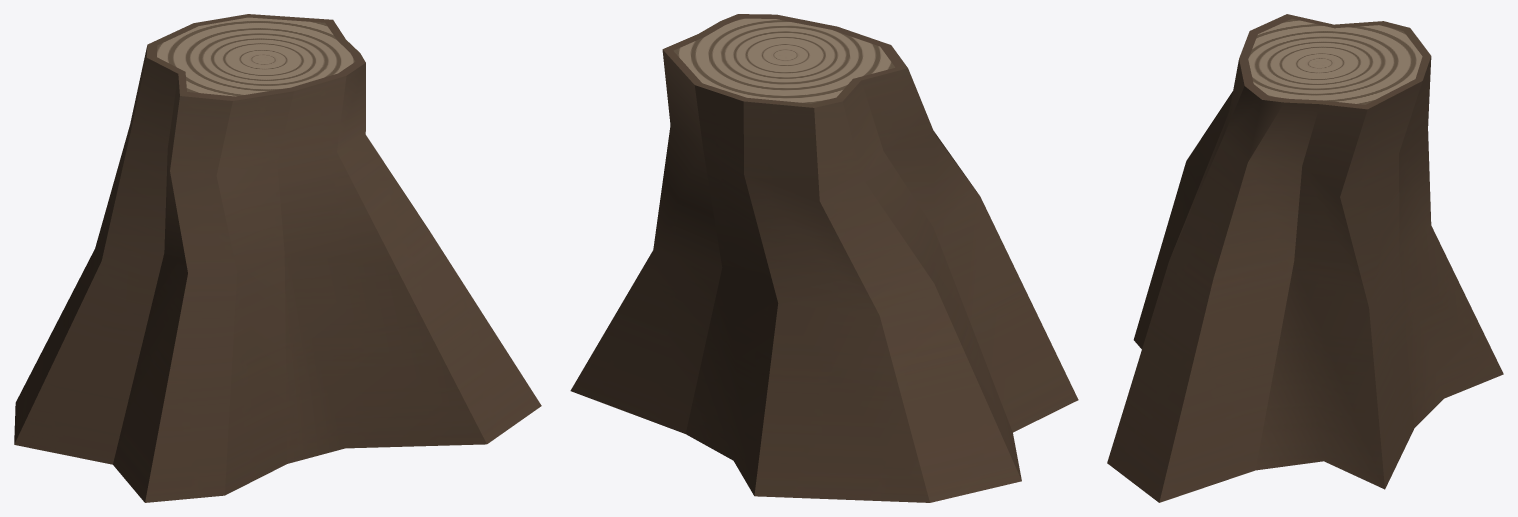
File: PT_Fruit_Tree_01_stump.fbx
3 renders of one model, left to right at view 1: azimuth 30°, elevation 25°; view 2: azimuth 150°, elevation 25°; view 3: azimuth 270°, elevation 25°, orthographic. The views are drawn at different scales.
Visible parts, largest first — view 1: PT_Fruit_Tree_01_stump; view 2: PT_Fruit_Tree_01_stump; view 3: PT_Fruit_Tree_01_stump.
Part boxes in pixels (x1,y1,x2,y2): PT_Fruit_Tree_01_stump: [14, 14, 541, 502]; PT_Fruit_Tree_01_stump: [570, 14, 1078, 502]; PT_Fruit_Tree_01_stump: [1107, 14, 1503, 502].
Bounding box in the file's own units: 124 × 91.61 × 96.36.
